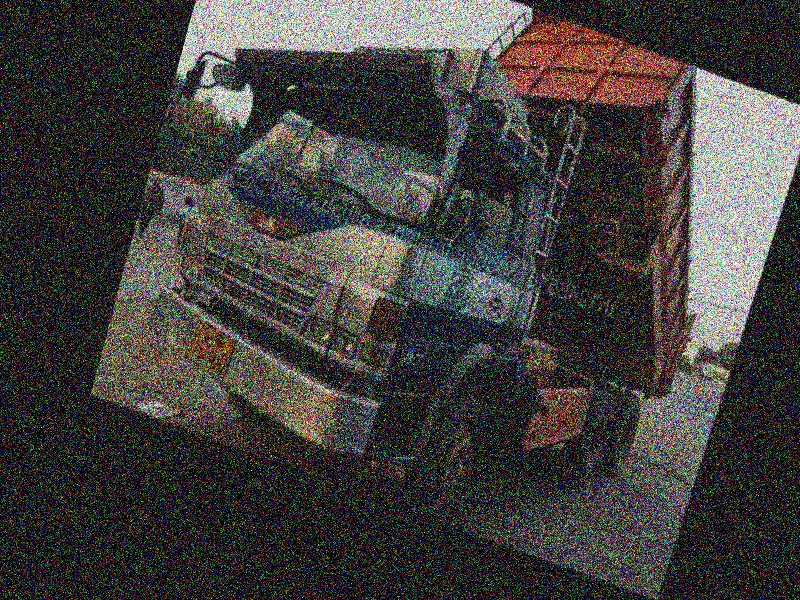truck: (112, 0, 782, 589)
